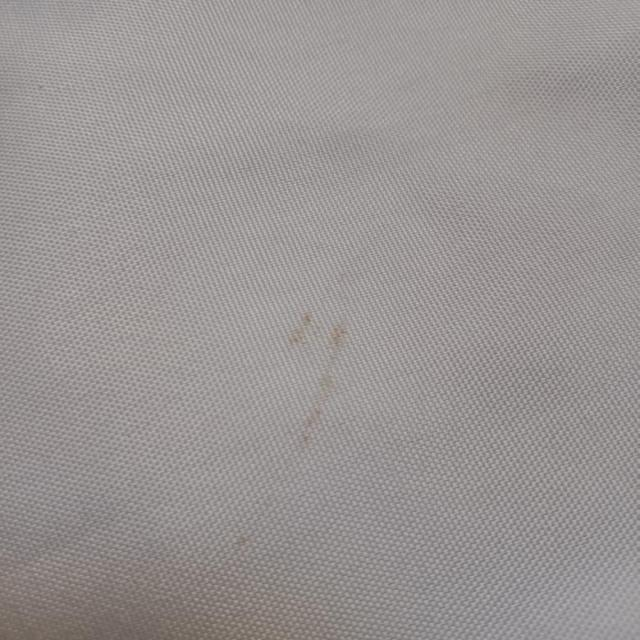stain: (267, 304, 358, 452)
